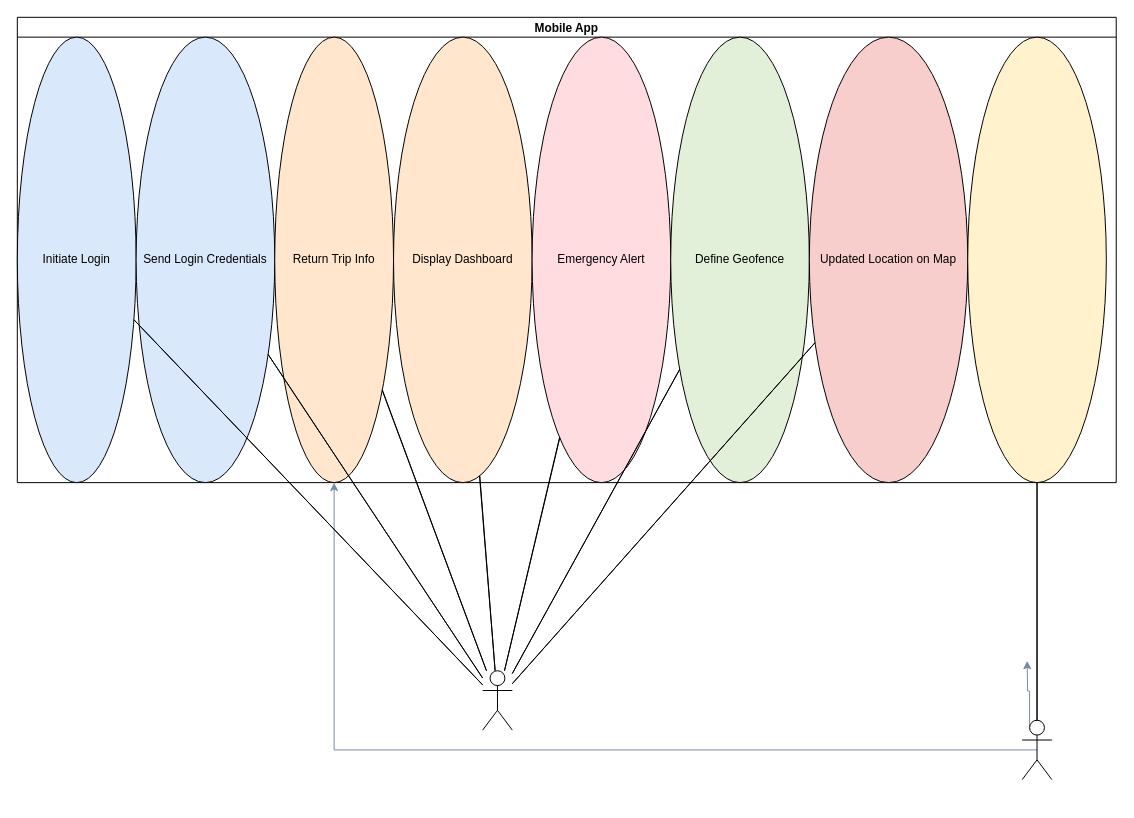
This 1134x818 diagram has some shape labels left out. The shapes that lost their labels are listed below. From the top down, each one's box as (x1, y1, x2, y2) in pixels, then its label:
(967, 36, 1106, 483): Invitation Handling
(482, 670, 512, 730): User
(1021, 719, 1052, 780): Participant Mobile
